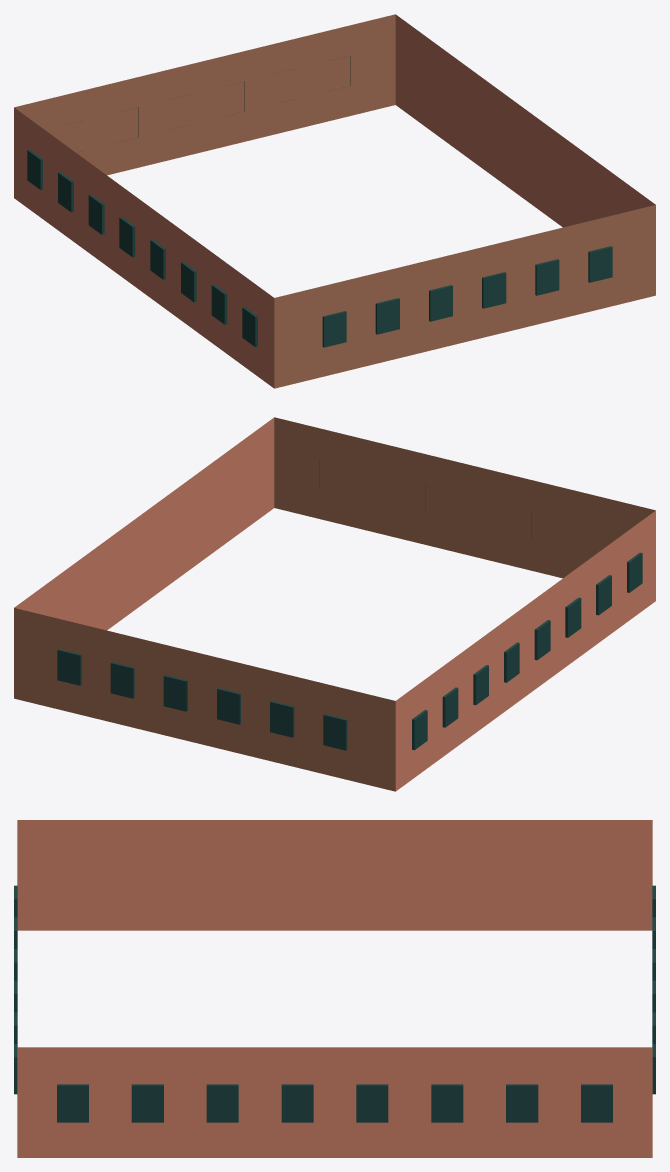
The model's file is TB_CITY_Skysc_S_MidBodyB_Brown.FBX.
3 views of the same model, one above another, from view 1: azimuth 30°, elevation 25°; view 2: azimuth 150°, elevation 25°; view 3: azimuth 270°, elevation 25° (orthographic). The views are drawn at different scales.
Visible parts, largest first — view 1: TB_CITY_Skysc_S_MidBodyB_Brown; view 2: TB_CITY_Skysc_S_MidBodyB_Brown; view 3: TB_CITY_Skysc_S_MidBodyB_Brown.
Boxes of the visible parts, <box> form: TB_CITY_Skysc_S_MidBodyB_Brown: <box>14,14,655,388</box>; TB_CITY_Skysc_S_MidBodyB_Brown: <box>14,417,655,791</box>; TB_CITY_Skysc_S_MidBodyB_Brown: <box>14,820,655,1157</box>.
Bounding box in the file's own units: 22.32 × 5 × 26.28.
